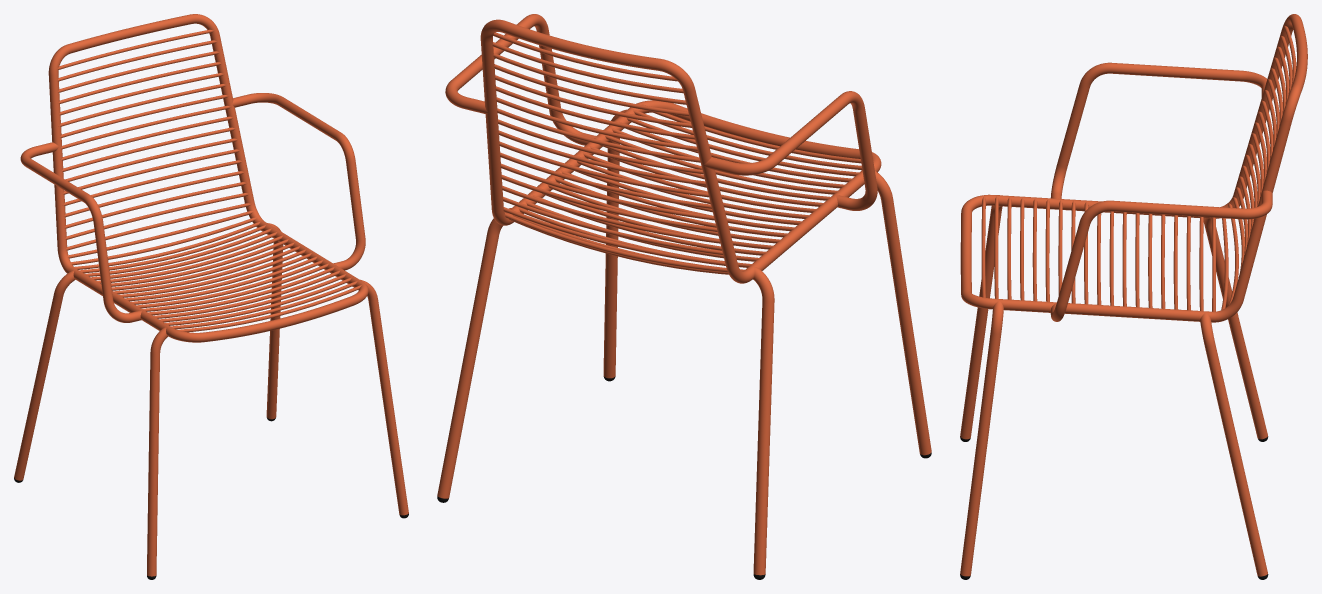
3 renders of one model, left to right at view 1: azimuth 30°, elevation 25°; view 2: azimuth 150°, elevation 25°; view 3: azimuth 270°, elevation 25°, orthographic. The views are drawn at different scales.
Parts seen in each view (by area): view 1: Mesh; view 2: Mesh; view 3: Mesh.
Part boxes in pixels (x1=…): Mesh: x1=14, y1=14, x2=408, y2=579; Mesh: x1=437, y1=14, x2=931, y2=579; Mesh: x1=960, y1=14, x2=1307, y2=579.
Bounding box in the file's own units: 0.5254 × 0.7901 × 0.5416.
